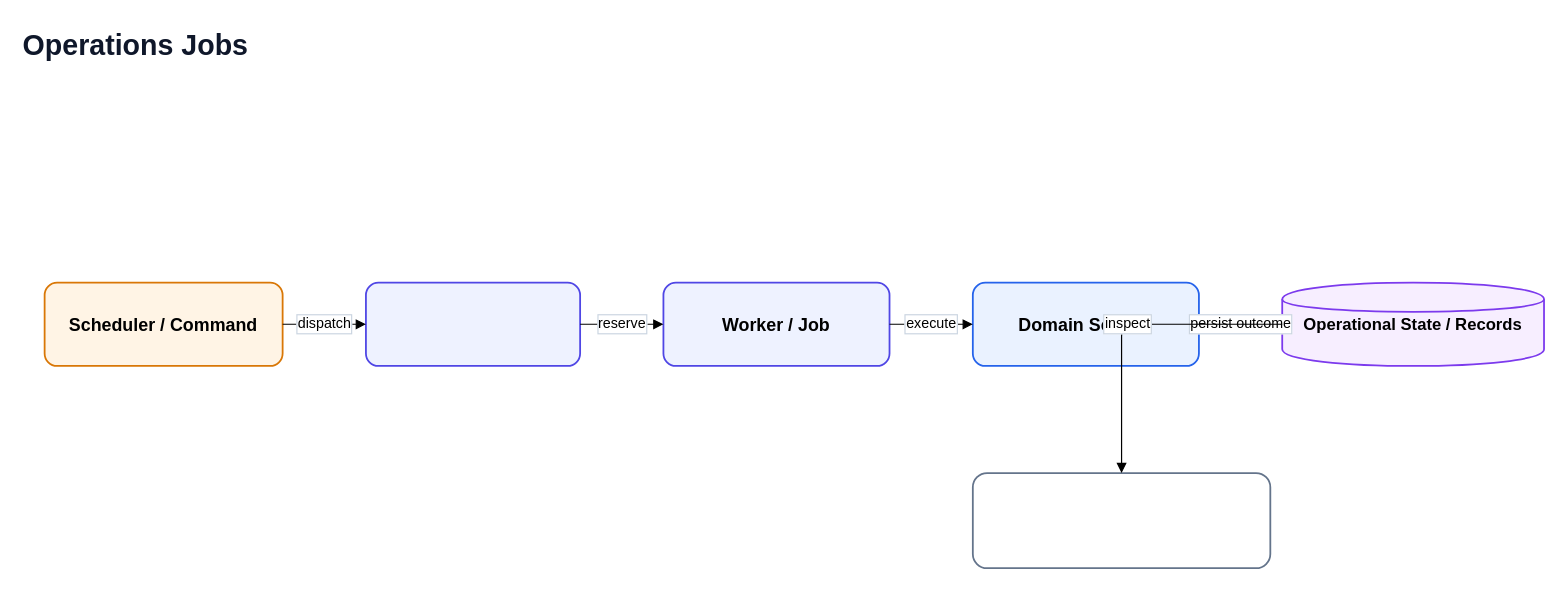
Some shapes in this 1565 by 589 pixel diagram are drawn without their labels. The box of each missing label's shape, as (x1, y1, x2, y2) in pixels:
Developer Diagnostics Queue Jobs / Failed Jobs / Logs: (971, 472, 1271, 569)
Queue: (364, 281, 580, 366)
